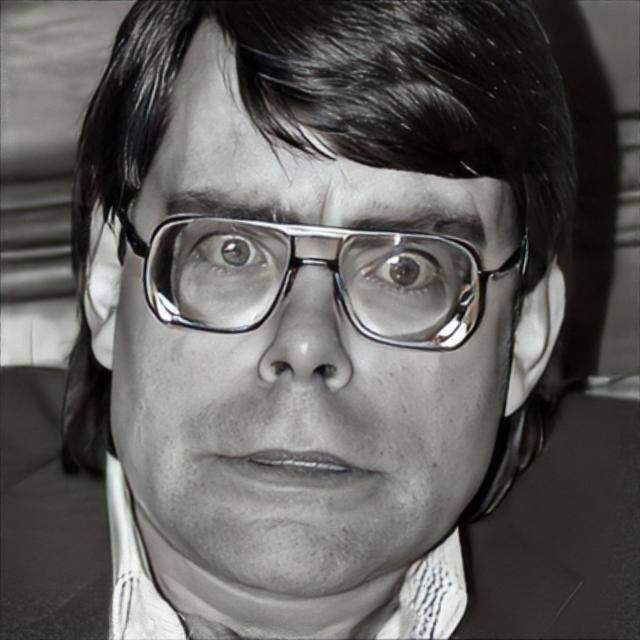fear: (108, 4, 524, 600)
